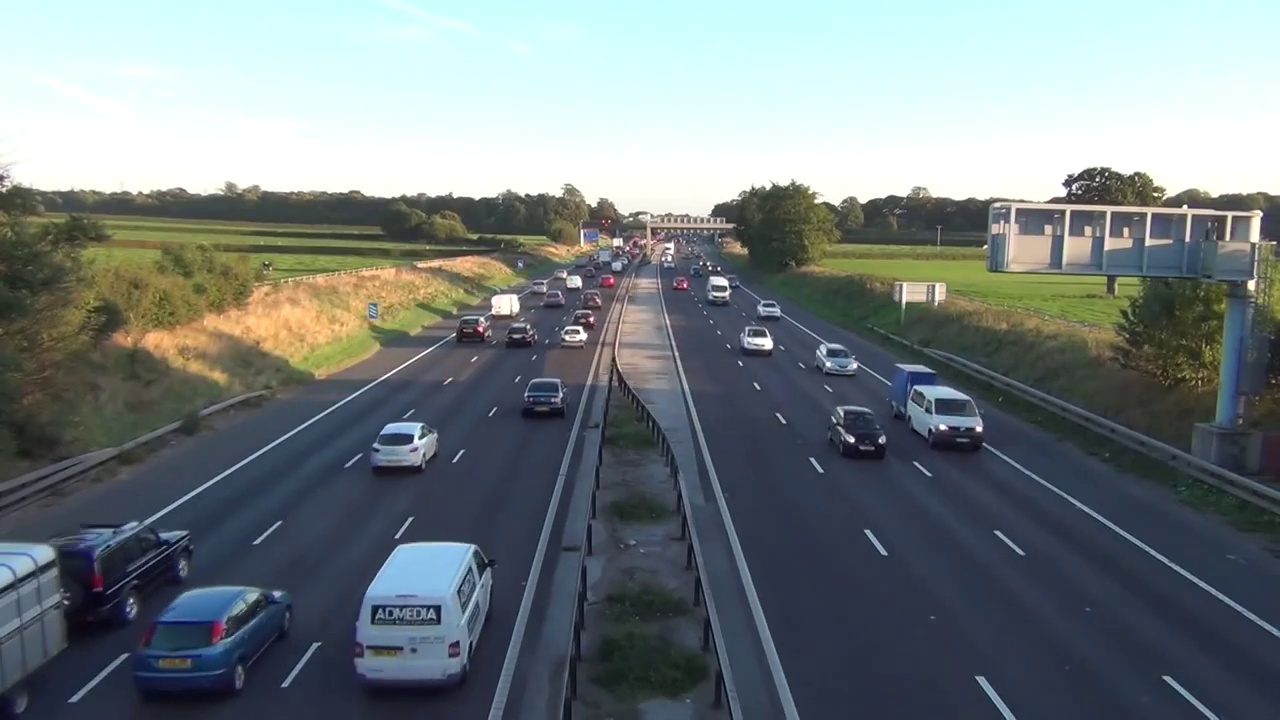bus: (132, 584, 293, 697), (45, 521, 195, 633), (906, 384, 985, 452), (369, 421, 440, 472), (826, 405, 888, 460), (522, 377, 572, 418), (814, 343, 858, 378), (738, 325, 774, 355), (455, 315, 492, 342), (505, 322, 539, 347), (559, 325, 590, 349), (756, 300, 781, 321), (571, 310, 595, 328), (544, 289, 566, 307), (582, 290, 602, 309), (531, 279, 548, 294), (671, 276, 688, 291), (565, 275, 583, 289), (598, 274, 614, 288), (726, 274, 740, 289), (554, 268, 569, 280), (690, 265, 703, 277)
car: (351, 539, 499, 694), (490, 293, 522, 318), (705, 276, 730, 306)
